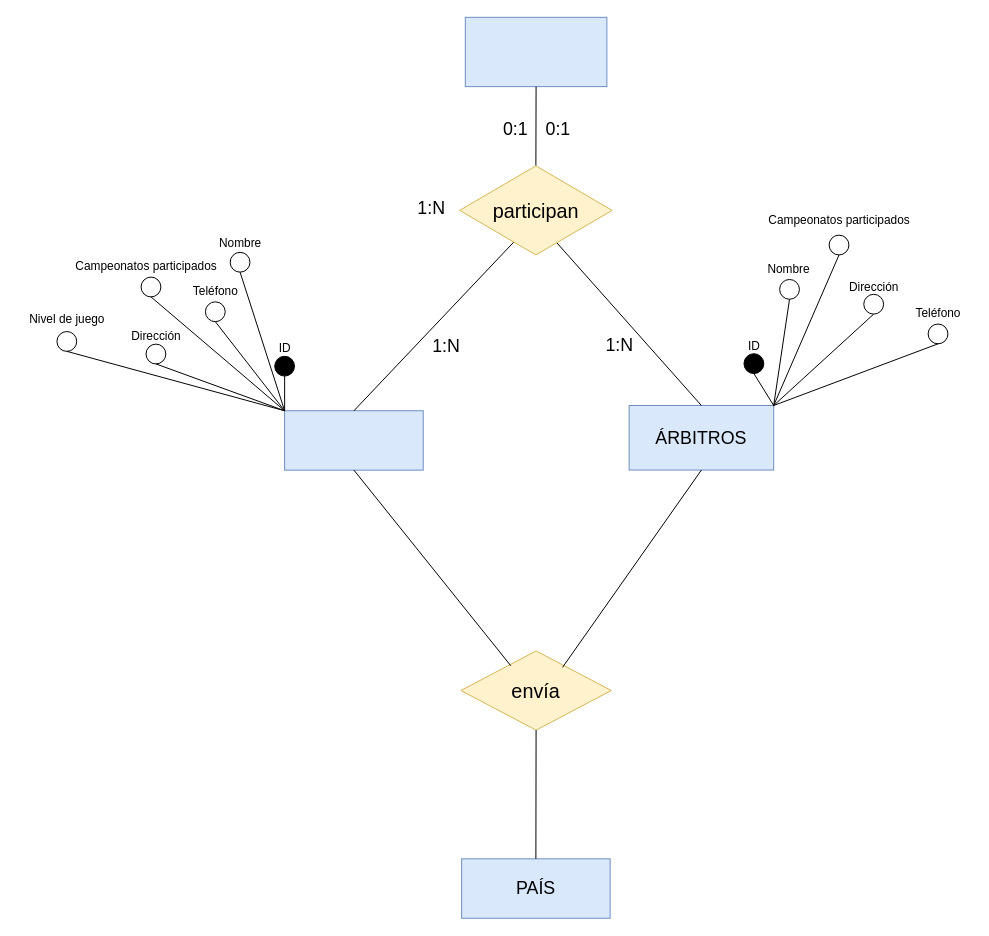
This 989x936 diagram has some shape labels left out. Here are the shapes that lost their labels. From the top down, the centre of each, then its label:
At (x=535, y=51): "CAMPEONATO".
At (x=353, y=440): "JUGADORES".
